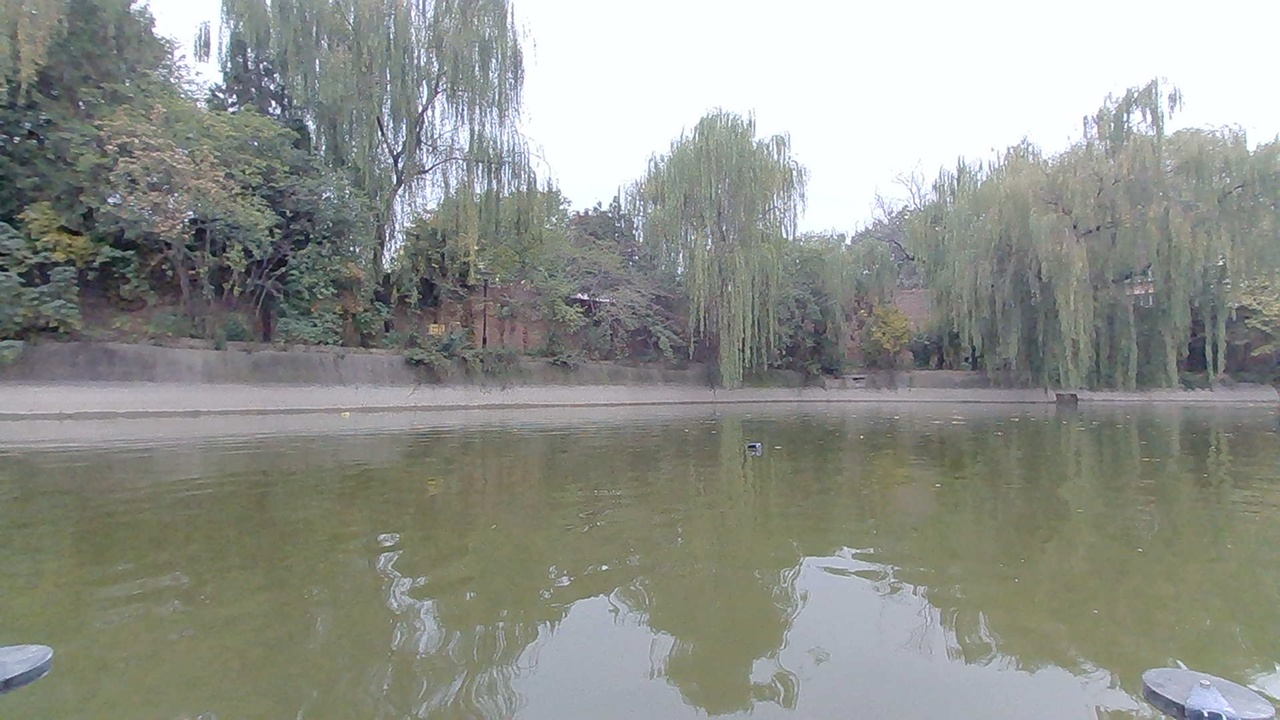bottle: (744, 432, 772, 458)
